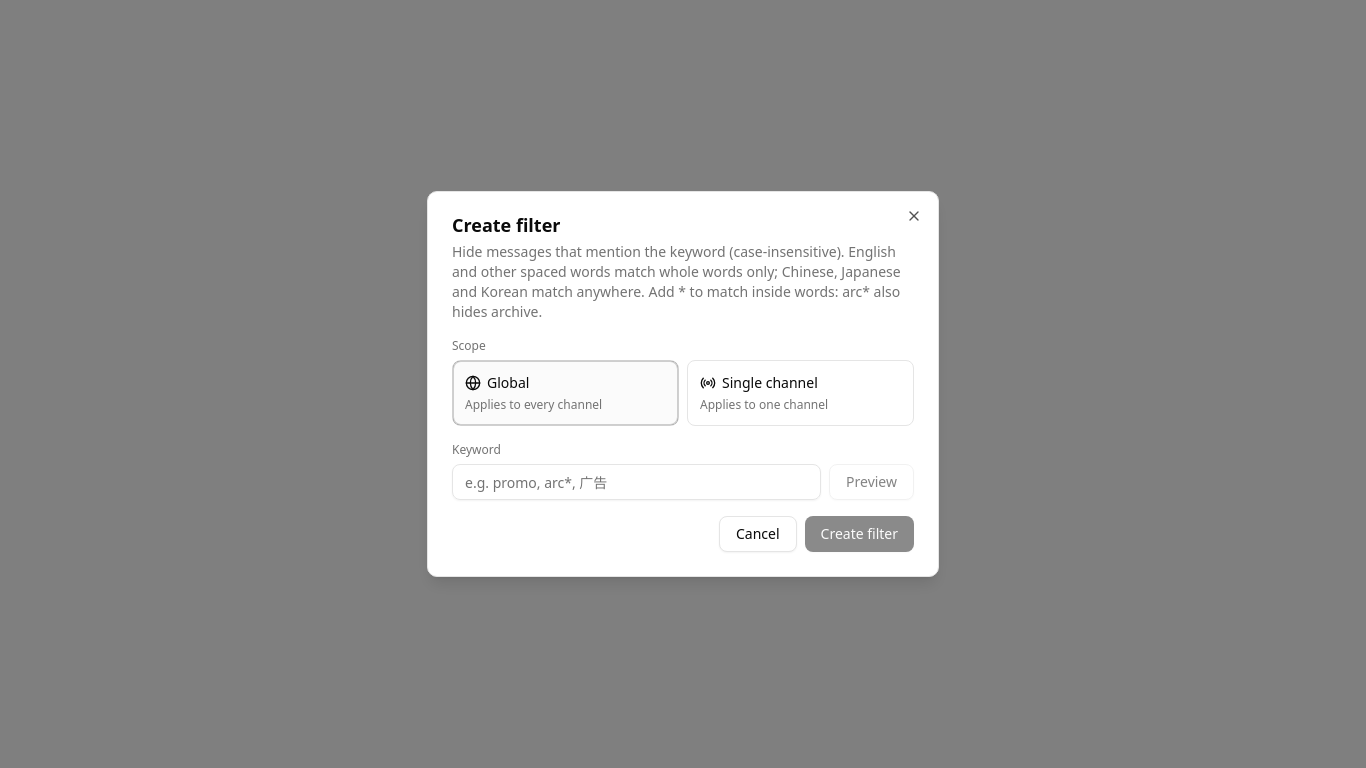
Scenario: CreateFilterDialog › shows the empty-keyword error when previewing a bare *
Type "*" into the field at (637, 482), box [452,464,821,500]
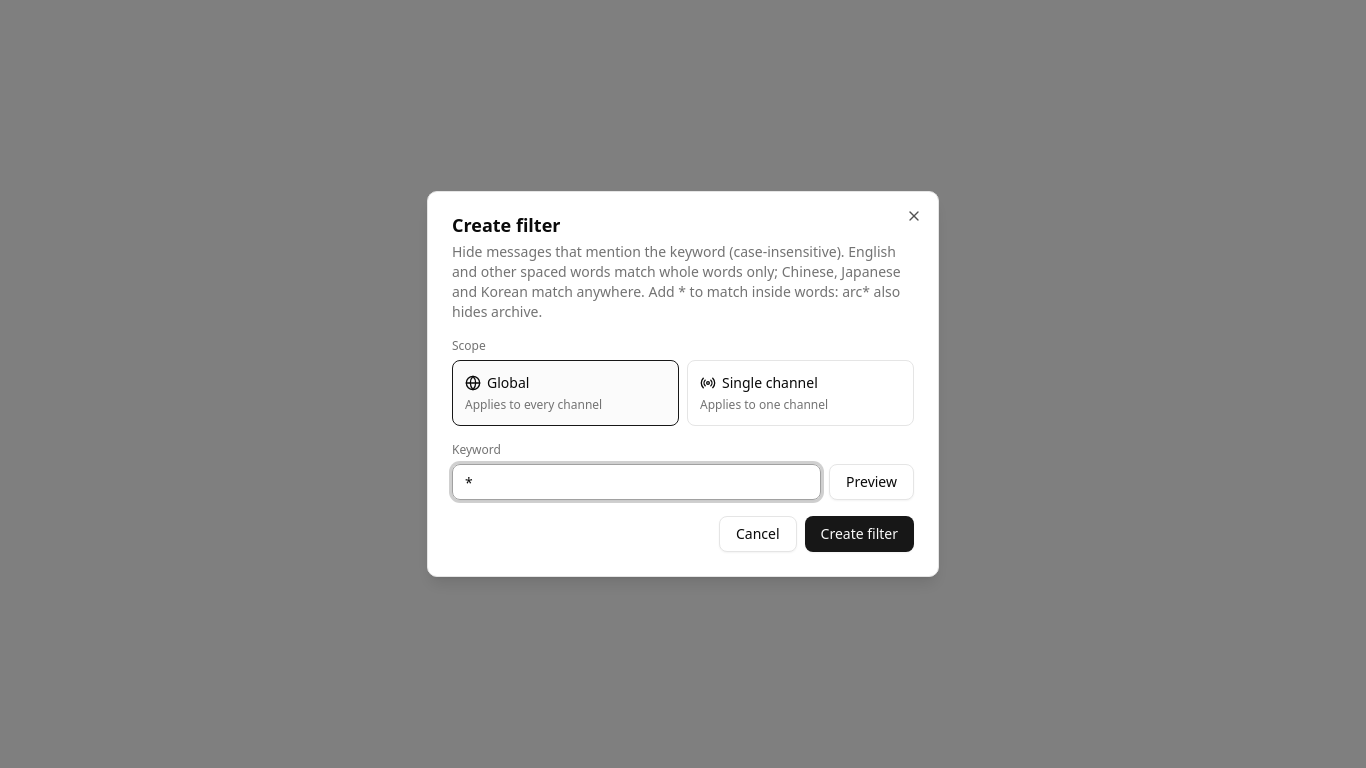
Click the button "Preview" at (872, 482), box [829,464,914,500]
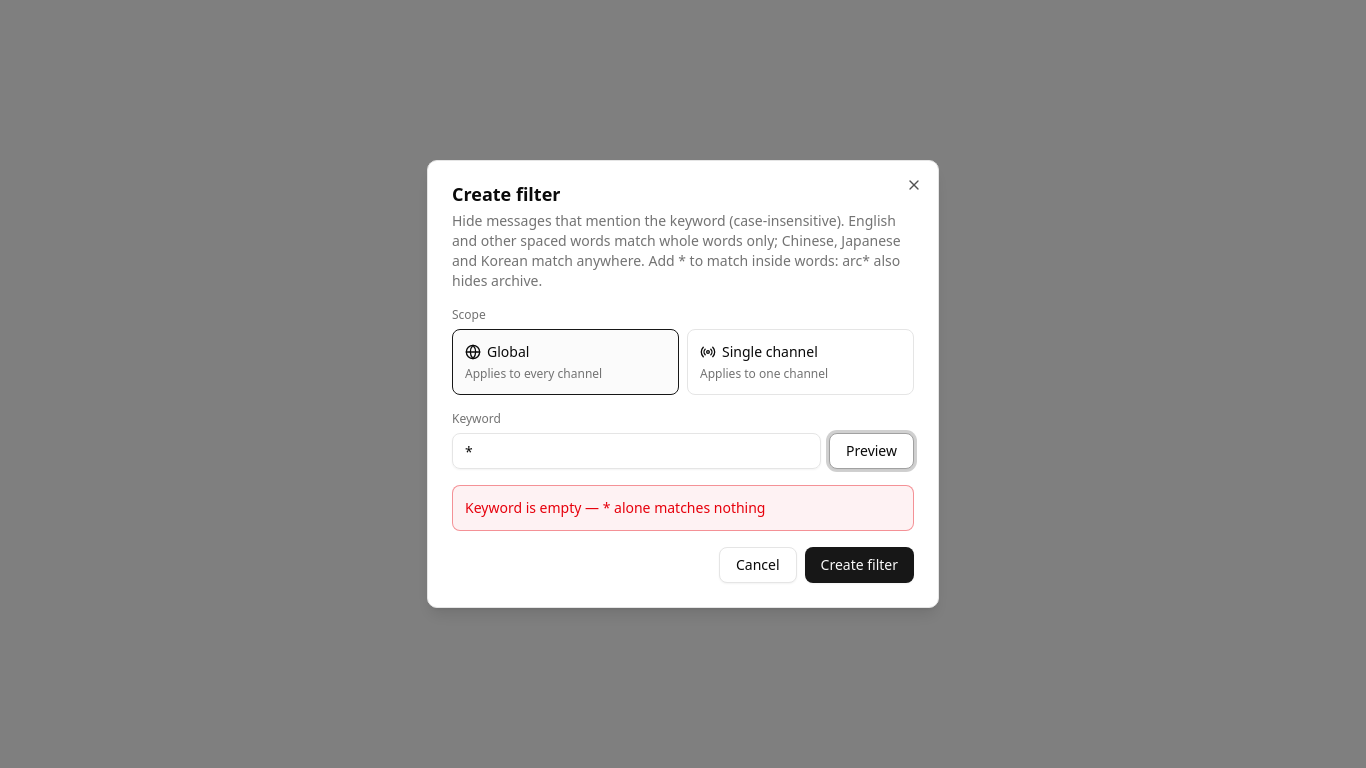
Now the text "Keyword is empty — * alone matches nothing" is shown, box [452,485,914,531]
